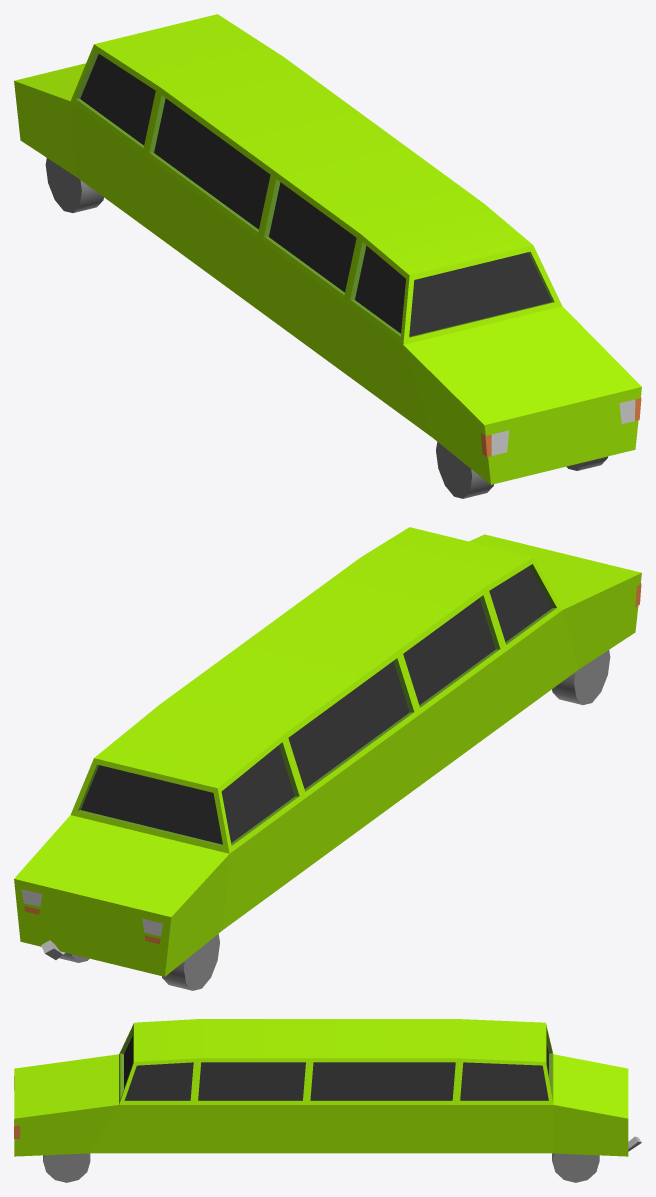
The model's file is limo_07.fbx.
3 views of the same model, one above another, from view 1: azimuth 30°, elevation 25°; view 2: azimuth 150°, elevation 25°; view 3: azimuth 270°, elevation 25° (orthographic). The views are drawn at different scales.
Parts seen in each view (by area): view 1: limo_07; view 2: limo_07; view 3: limo_07.
Boxes of the visible parts, <box> form: limo_07: <box>14,14,641,498</box>; limo_07: <box>14,527,641,990</box>; limo_07: <box>14,1019,641,1182</box>.
Size of the model in its own units: 1.6 by 1.8 by 8.39.
